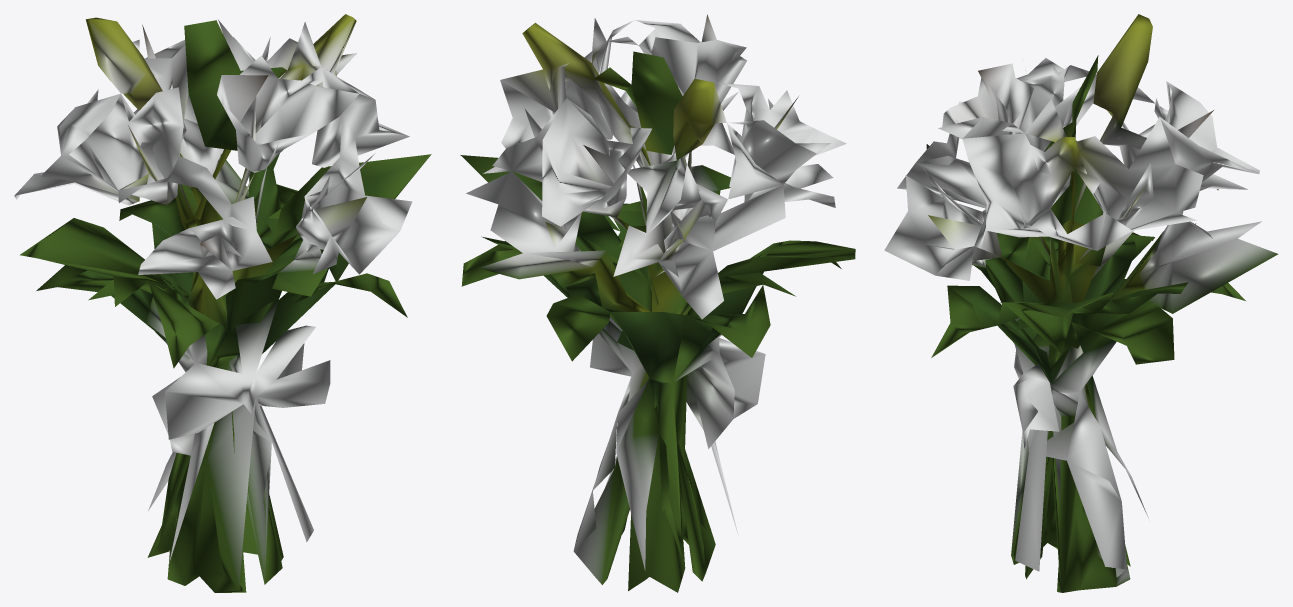
File: gen3d-lily-bouquet-lod1.glb
3 views of the same model, side by side, from view 1: azimuth 30°, elevation 25°; view 2: azimuth 150°, elevation 25°; view 3: azimuth 270°, elevation 25° (orthographic). The views are drawn at different scales.
Visible parts, largest first — view 1: part_0; view 2: part_0; view 3: part_0.
Boxes of the visible parts, x1,y1,x2,y2 form: part_0: (14, 14, 431, 592); part_0: (460, 14, 855, 592); part_0: (884, 14, 1278, 592).
Bounding box in the file's own units: 0.7639 × 0.9818 × 0.6841.
